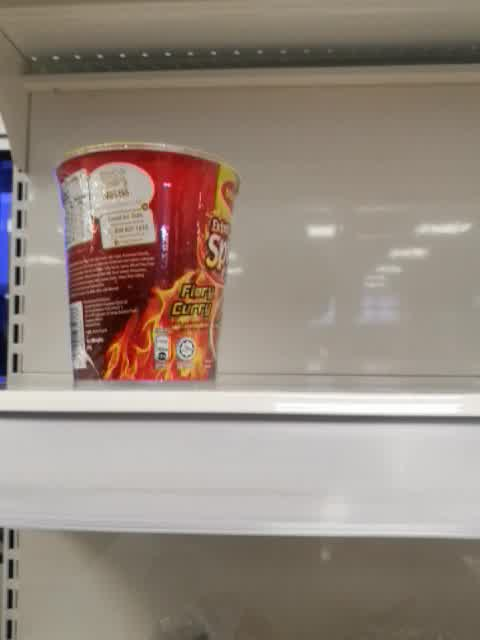maggi: (55, 140, 243, 388)
